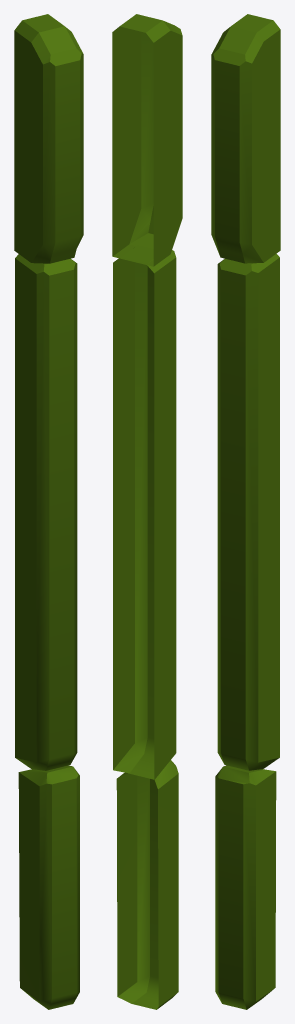
Rendered from Module_Ss_wall_co_v1.FBX.
The picture shows the model from 3 angles, left to right: view 1: azimuth 30°, elevation 25°; view 2: azimuth 150°, elevation 25°; view 3: azimuth 330°, elevation 25°; orthographic projection.
Visible parts, largest first — view 1: Module_Ss_wall_co_v1; view 2: Module_Ss_wall_co_v1; view 3: Module_Ss_wall_co_v1.
Boxes of the visible parts, x1,y1,x2,y2 form: Module_Ss_wall_co_v1: (14, 14, 83, 1009); Module_Ss_wall_co_v1: (112, 14, 182, 1009); Module_Ss_wall_co_v1: (211, 14, 280, 1009).
Bounding box in the file's own units: 3.46 × 78.64 × 4.85.
